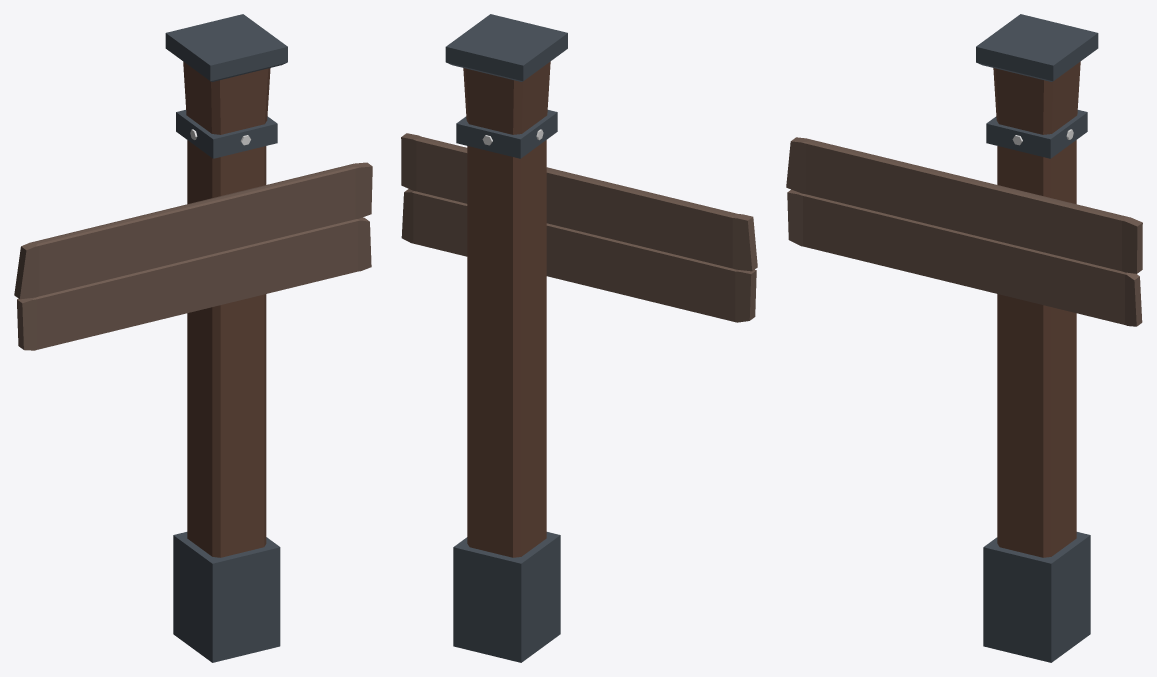
The model's file is engel-tabela1.fbx.
3 renders of one model, left to right at view 1: azimuth 30°, elevation 25°; view 2: azimuth 150°, elevation 25°; view 3: azimuth 330°, elevation 25°, orthographic.
Parts seen in each view (by area): view 1: Cube, Cube.002; view 2: Cube, Cube.002; view 3: Cube, Cube.002.
Part boxes in pixels (box(x1,y1,x2,y2)): Cube: box(165, 14, 287, 662); Cube.002: box(14, 162, 372, 350); Cube: box(445, 14, 567, 662); Cube.002: box(401, 133, 757, 322); Cube: box(976, 14, 1098, 662); Cube.002: box(786, 137, 1142, 326).
Size of the model in its own units: 346 by 563 by 77.18.
